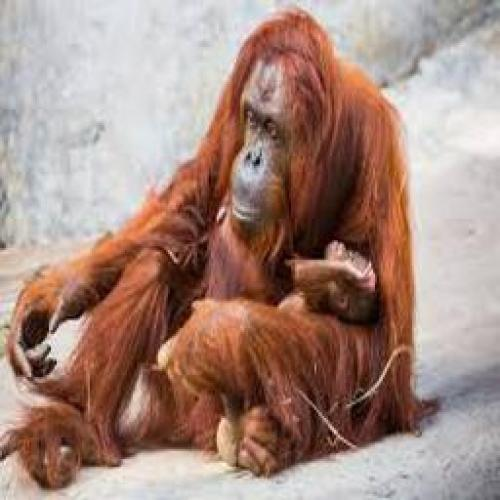orangutan-endangered: (17, 10, 411, 456), (290, 244, 375, 330)
